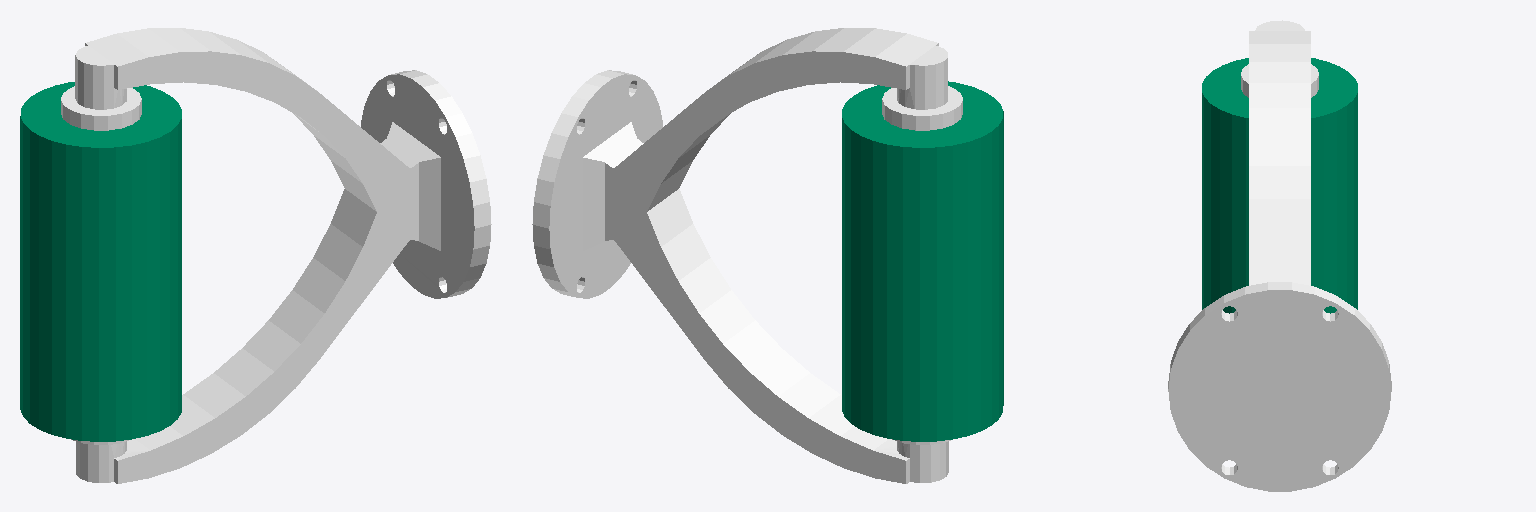
URDF robot description (panda):
<?xml version="1.0" ?>
<!-- =================================================================================== -->
<!-- |    This document was autogenerated by xacro from panda_arm.urdf.xacro           | -->
<!-- |    EDITING THIS FILE BY HAND IS NOT RECOMMENDED                                 | -->
<!-- =================================================================================== -->
<robot name="panda">
  <link name="panda_link0">
    <visual>
      <geometry>
        <mesh filename="franka_description/meshes/visual/link0.dae"/>
      </geometry>
    </visual>
    <collision>
      <geometry>
        <mesh filename="franka_description/meshes/collision/link0.stl"/>
      </geometry>
    </collision>
    <inertial>
      <origin rpy="0 0 0" xyz="-0.041018 -0.00014 0.049974"/>
      <mass value="0.629769"/>
      <inertia ixx="0.00315" ixy="8.2904e-07" ixz="0.00015" iyy="0.00388" iyz="8.2299e-06" izz="0.004285"/>
    </inertial>
  </link>
  <link name="panda_link1">
    <visual>
      <geometry>
        <mesh filename="franka_description/meshes/visual/link1.dae"/>
      </geometry>
    </visual>
    <collision>
      <geometry>
        <mesh filename="franka_description/meshes/collision/link1.stl"/>
      </geometry>
    </collision>
    <inertial>
      <origin rpy="0 0 0" xyz="0.003875 0.002081 -0.04762"/>
      <mass value="4.970684"/>
      <inertia ixx="0.70337" ixy="-0.000139" ixz="0.006772" iyy="0.70661" iyz="0.019169" izz="0.009117"/>
    </inertial>
  </link>
  <joint name="panda_joint1" type="revolute">
    <safety_controller k_position="100.0" k_velocity="40.0" soft_lower_limit="-2.8973" soft_upper_limit="2.8973"/>
    <origin rpy="0 0 0" xyz="0 0 0.333"/>
    <parent link="panda_link0"/>
    <child link="panda_link1"/>
    <axis xyz="0 0 1"/>
    <limit effort="87" lower="-2.8973" upper="2.8973" velocity="2.1750"/>
    <dynamics D="1" K="7000" damping="0.003" friction="0.0" mu_coulomb="0" mu_viscous="16"/>
  </joint>
  <link name="panda_link2">
    <visual>
      <geometry>
        <mesh filename="franka_description/meshes/visual/link2.dae"/>
      </geometry>
    </visual>
    <collision>
      <geometry>
        <mesh filename="franka_description/meshes/collision/link2.stl"/>
      </geometry>
    </collision>
    <inertial>
      <origin rpy="0 0 0" xyz="-0.003141 -0.02872  0.003495"/>
      <mass value="0.646926"/>
      <inertia ixx="0.007962" ixy="-0.003925" ixz="0.010254" iyy="0.02811" iyz="0.000704" izz="0.025995"/>
    </inertial>
  </link>
  <joint name="panda_joint2" type="revolute">
    <safety_controller k_position="100.0" k_velocity="40.0" soft_lower_limit="-1.7628" soft_upper_limit="1.7628"/>
    <origin rpy="-1.5707963267948966 0 0" xyz="0 0 0"/>
    <parent link="panda_link1"/>
    <child link="panda_link2"/>
    <axis xyz="0 0 1"/>
    <limit effort="87" lower="-1.7628" upper="1.7628" velocity="2.1750"/>
    <dynamics D="1" K="7000" damping="0.003" friction="0.0" mu_coulomb="0" mu_viscous="16"/>
  </joint>
  <link name="panda_link3">
    <visual>
      <geometry>
        <mesh filename="franka_description/meshes/visual/link3.dae"/>
      </geometry>
    </visual>
    <collision>
      <geometry>
        <mesh filename="franka_description/meshes/collision/link3.stl"/>
      </geometry>
    </collision>
    <inertial>
      <origin rpy="0 0 0" xyz="2.7518e-02 3.9252e-02 -6.6502e-02"/>
      <mass value="3.228604"/>
      <inertia ixx="0.037242" ixy="-0.004761" ixz="-0.011396" iyy="0.036155" iyz="-0.012805" izz="0.01083"/>
    </inertial>
  </link>
  <joint name="panda_joint3" type="revolute">
    <safety_controller k_position="100.0" k_velocity="40.0" soft_lower_limit="-2.8973" soft_upper_limit="2.8973"/>
    <origin rpy="1.5707963267948966 0 0" xyz="0 -0.316 0"/>
    <parent link="panda_link2"/>
    <child link="panda_link3"/>
    <axis xyz="0 0 1"/>
    <limit effort="87" lower="-2.8973" upper="2.8973" velocity="2.1750"/>
    <dynamics D="1" K="7000" damping="0.003" friction="0.0" mu_coulomb="0" mu_viscous="16"/>
  </joint>
  <link name="panda_link4">
    <visual>
      <geometry>
        <mesh filename="franka_description/meshes/visual/link4.dae"/>
      </geometry>
    </visual>
    <collision>
      <geometry>
        <mesh filename="franka_description/meshes/collision/link4.stl"/>
      </geometry>
    </collision>
    <inertial>
      <origin rpy="0 0 0" xyz="-5.317e-02 1.04419e-01 2.7454e-02"/>
      <mass value="3.587895"/>
      <inertia ixx="0.025853" ixy="0.007796" ixz="-0.001332" iyy="0.019552" iyz="0.008641" izz="0.028323"/>
    </inertial>
  </link>
  <joint name="panda_joint4" type="revolute">
    <safety_controller k_position="100.0" k_velocity="40.0" soft_lower_limit="-3.0718" soft_upper_limit="-0.0698"/>
    <origin rpy="1.5707963267948966 0 0" xyz="0.0825 0 0"/>
    <parent link="panda_link3"/>
    <child link="panda_link4"/>
    <axis xyz="0 0 1"/>
    <limit effort="87" lower="-3.0718" upper="-0.0698" velocity="2.1750"/>
    <dynamics D="1" K="7000" damping="0.003" friction="0.0" mu_coulomb="0" mu_viscous="16"/>
  </joint>
  <link name="panda_link5">
    <visual>
      <geometry>
        <mesh filename="franka_description/meshes/visual/link5.dae"/>
      </geometry>
    </visual>
    <collision>
      <geometry>
        <mesh filename="franka_description/meshes/collision/link5.stl"/>
      </geometry>
    </collision>
    <inertial>
      <origin rpy="0 0 0" xyz="-1.1953e-02 4.1065e-02 -3.8437e-02"/>
      <mass value="1.225946"/>
      <inertia ixx="0.035549" ixy="-0.002117" ixz="-0.004037" iyy="0.029474" iyz="0.000229" izz="0.008627"/>
    </inertial>
  </link>
  <joint name="panda_joint5" type="revolute">
    <safety_controller k_position="100.0" k_velocity="40.0" soft_lower_limit="-2.8973" soft_upper_limit="2.8973"/>
    <origin rpy="-1.5707963267948966 0 0" xyz="-0.0825 0.384 0"/>
    <parent link="panda_link4"/>
    <child link="panda_link5"/>
    <axis xyz="0 0 1"/>
    <limit effort="12" lower="-2.8973" upper="2.8973" velocity="2.6100"/>
    <dynamics D="1" K="7000" damping="0.003" friction="0.0" mu_coulomb="0" mu_viscous="16"/>
  </joint>
  <link name="panda_link6">
    <visual>
      <geometry>
        <mesh filename="franka_description/meshes/visual/link6.dae"/>
      </geometry>
    </visual>
    <collision>
      <geometry>
        <mesh filename="franka_description/meshes/collision/link6.stl"/>
      </geometry>
    </collision>
    <inertial>
      <origin rpy="0 0 0" xyz="6.0149e-02 -1.4117e-02 -1.0517e-02"/>
      <mass value="1.666555"/>
      <inertia ixx="0.001964" ixy="0.000109" ixz="-0.001158" iyy="0.004354" iyz="0.000341" izz="0.005433"/>
    </inertial>
  </link>
  <joint name="panda_joint6" type="revolute">
    <safety_controller k_position="100.0" k_velocity="40.0" soft_lower_limit="-0.0175" soft_upper_limit="3.7525"/>
    <origin rpy="1.5707963267948966 0 0" xyz="0 0 0"/>
    <parent link="panda_link5"/>
    <child link="panda_link6"/>
    <axis xyz="0 0 1"/>
    <limit effort="12" lower="-0.0175" upper="3.7525" velocity="2.6100"/>
    <dynamics D="1" K="7000" damping="0.003" friction="0.0" mu_coulomb="0" mu_viscous="16"/>
  </joint>
  <link name="panda_link7">
    <visual>
      <geometry>
        <mesh filename="franka_description/meshes/visual/link7.dae"/>
      </geometry>
    </visual>
    <collision>
      <geometry>
        <mesh filename="franka_description/meshes/collision/link7.stl"/>
      </geometry>
    </collision>
    <inertial>
      <origin rpy="0 0 0" xyz="1.0517e-02 -4.252e-03 6.1597e-02"/>
      <mass value="0.735522"/>
      <inertia ixx="0.012516" ixy="-0.000428" ixz="-0.001196" iyy="0.010027" iyz="-0.000741" izz="0.004815"/>
    </inertial>
  </link>
  <joint name="panda_joint7" type="revolute">
    <safety_controller k_position="100.0" k_velocity="40.0" soft_lower_limit="-2.8973" soft_upper_limit="2.8973"/>
    <origin rpy="1.5707963267948966 0 0" xyz="0.088 0 0"/>
    <parent link="panda_link6"/>
    <child link="panda_link7"/>
    <axis xyz="0 0 1"/>
    <limit effort="12" lower="-2.8973" upper="2.8973" velocity="2.6100"/>
    <dynamics D="1" K="7000" damping="0.003" friction="0.0" mu_coulomb="0" mu_viscous="16"/>
  </joint>
  <link name="panda_link8"/>
  <joint name="panda_joint8" type="fixed">
    <origin rpy="0 0 0" xyz="0 0 0.107"/>
    <parent link="panda_link7"/>
    <child link="panda_link8"/>
  </joint>

  <!--rolling pin connector-->
  <link
    name="pin_connector">
    <inertial>
      <origin
        xyz="-1.38777878078145E-17 4.16333634234434E-17 0.0610004038419134"
        rpy="0 0 0" />
      <mass
        value="0.303812069228114" />
      <inertia
        ixx="0.000673433526699809"
        ixy="-7.26156384669258E-11"
        ixz="-2.57498015965307E-19"
        iyy="0.00079404734158822"
        iyz="-4.52229334405544E-21"
        izz="0.00017459079777703" />
    </inertial>
    <visual>
      <origin
        xyz="0 0 0"
        rpy="0 0 0" />
      <geometry>
        <mesh
          filename="rolling_pin/xmate3_flange_link.STL" />
      </geometry>
      <material
        name="">
        <color
          rgba="1 1 1 1" />
      </material>
    </visual>
    <collision>
      <origin
        xyz="0 0 0"
        rpy="0 0 0" />
      <geometry>
        <mesh
          filename="rolling_pin/xmate3_flange_link.STL" />
      </geometry>
    </collision>
  </link>
  <joint
    name="pin_connector_joint"
    type="fixed">
    <origin
      xyz="0 0 0"
      rpy="0 0 0" />
    <parent
      link="panda_link8" />
    <child
      link="pin_connector" />
    <axis
      xyz="0 0 0" />
  </joint>

  <link name="rolling_pin">
  <inertial>
      <origin
        xyz="2.77555756156289E-17 0 0.072"
        rpy="0 0 0" />
      <mass
        value="0.175225471846624" />
      <inertia
        ixx="0.00017634574669663"
        ixy="2.27733162393504E-22"
        ixz="-1.57079936861088E-20"
        iyy="0.00017634574669663"
        iyz="9.59559013217975E-21"
        izz="6.06490403155536E-05" />
    </inertial>
    <visual>
      <origin xyz="0 0 -0.07" rpy="0 0 0" />
      <geometry>
        <mesh filename="rolling_pin/xmate3_roller_link.STL" />
      </geometry>
    </visual>
    <collision>
      <origin xyz="0 0 -0.07" rpy="0 0 0" />
      <geometry>
        <mesh filename="rolling_pin/xmate3_roller_link.STL" />
      </geometry>
    </collision>
  </link>
  <joint name="rolling_pin_joint" type="fixed">
    <origin xyz="0.001 0 0.11835"
      rpy="-1.5708 0 1.5708" />
    <parent link="pin_connector" />
    <child link="rolling_pin" />
  </joint>
</robot>

--- Render facts (derived) ---
The picture shows the robot from 3 angles, left to right: view 1: azimuth 30°, elevation 25°; view 2: azimuth 150°, elevation 25°; view 3: azimuth 270°, elevation 25°; orthographic projection.
Model panda with 11 links and 10 joints (7 revolute, 3 fixed), rooted at panda_link0, posed all joints at 0 but 1 set to mid-range because 0 is outside their limits (panda_joint4 = -1.57).
Visible links, largest first — view 1: pin_connector, rolling_pin; view 2: pin_connector, rolling_pin; view 3: pin_connector, rolling_pin.
Boxes of the visible links, x1=… form: pin_connector: x1=61, y1=28, x2=491, y2=483; rolling_pin: x1=20, y1=82, x2=181, y2=441; pin_connector: x1=532, y1=28, x2=962, y2=483; rolling_pin: x1=842, y1=81, x2=1003, y2=441; pin_connector: x1=1168, y1=20, x2=1391, y2=491; rolling_pin: x1=1202, y1=58, x2=1357, y2=313.
Bounding box of the posed robot: 0.1433 × 0.071 × 0.1432 m (x, y, z).
2 mesh visuals loaded from 10 distinct referenced files (2 binary STL); not drawn: 8 (reference not matched to a file when rendering).